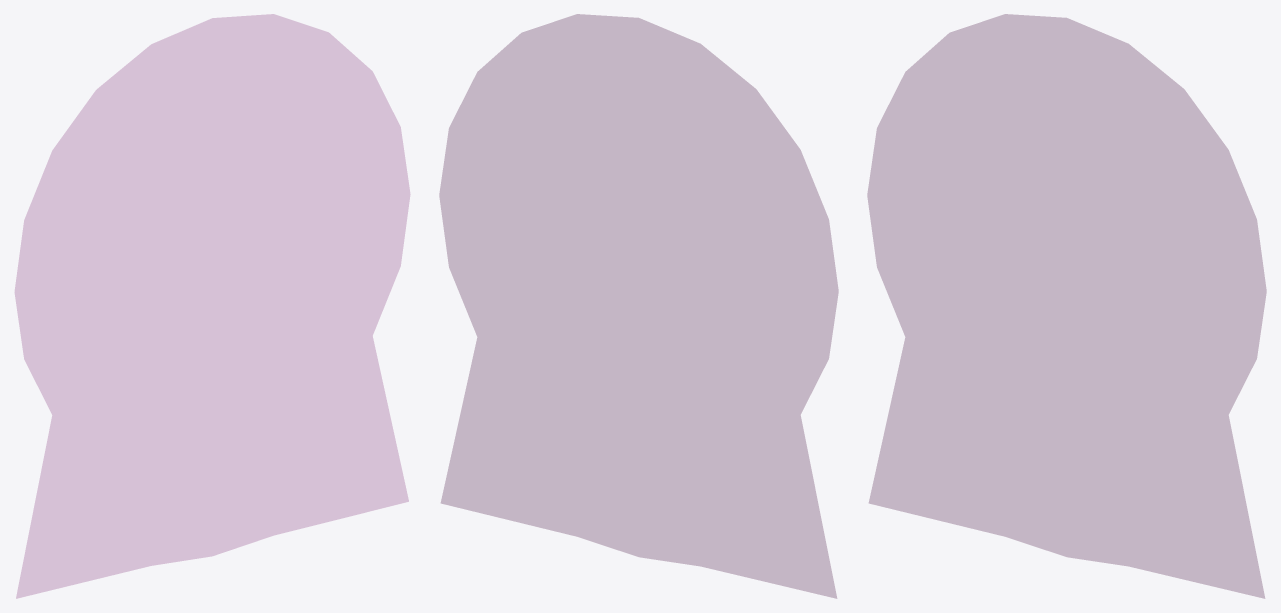
The model's file is portalmiddlee.fbx.
The picture shows the model from 3 angles, left to right: view 1: azimuth 30°, elevation 25°; view 2: azimuth 150°, elevation 25°; view 3: azimuth 330°, elevation 25°; orthographic projection.
Visible parts, largest first — view 1: pCylinder15; view 2: pCylinder15; view 3: pCylinder15.
Part boxes in pixels (left/top/right/bottom): pCylinder15: left=14, top=14, right=410, bottom=598; pCylinder15: left=439, top=14, right=838, bottom=598; pCylinder15: left=867, top=14, right=1266, bottom=598.
Size of the model in its own units: 7.5 by 9.71 by 0.0439.
